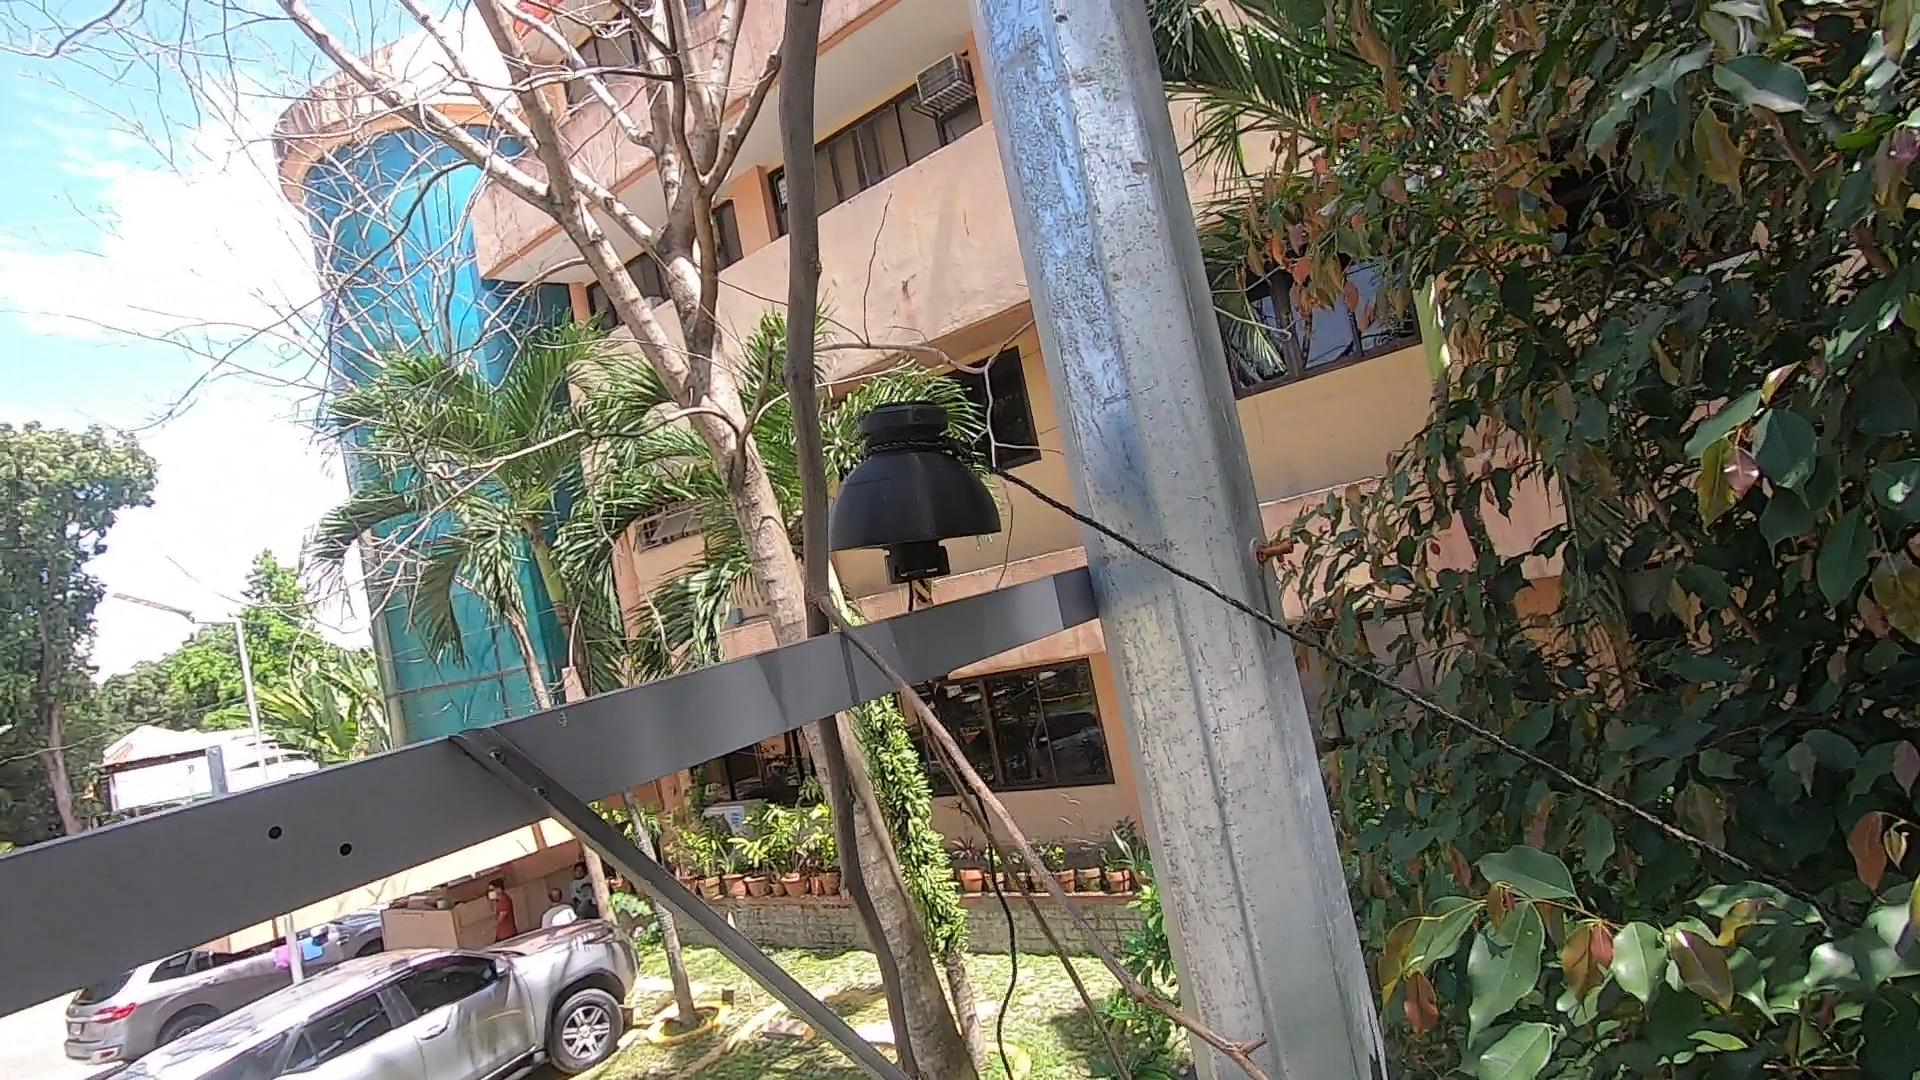tree branch: (711, 5, 1304, 1080)
